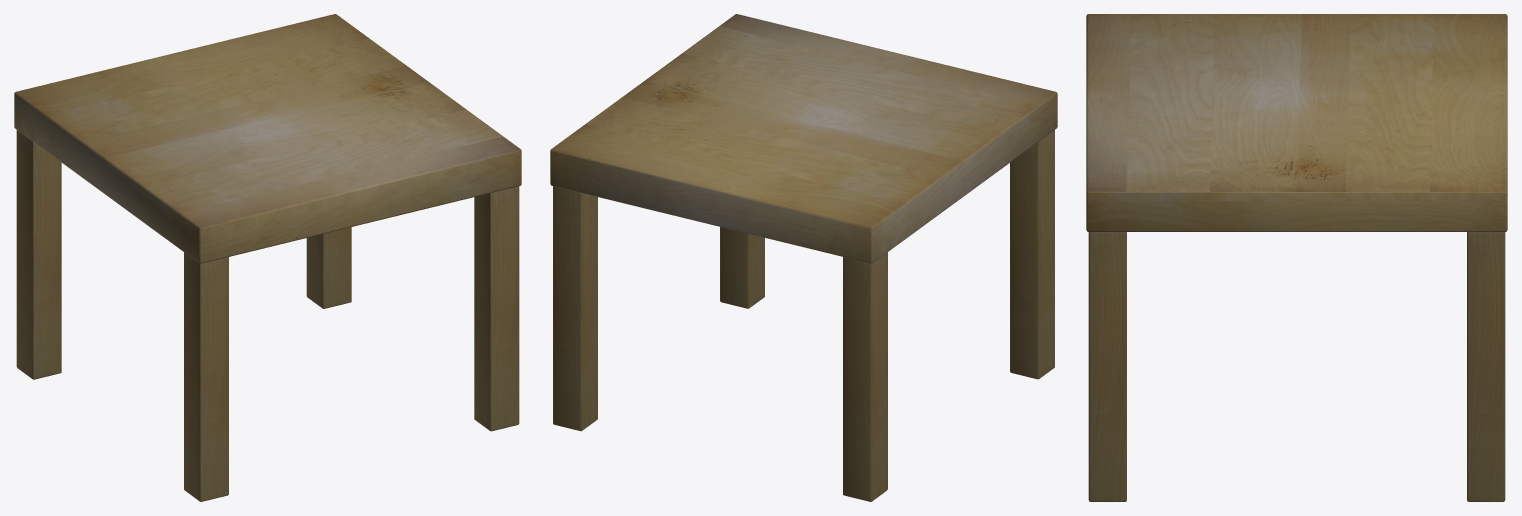
File: Side_Table.fbx
3 renders of one model, left to right at view 1: azimuth 30°, elevation 25°; view 2: azimuth 150°, elevation 25°; view 3: azimuth 270°, elevation 25°, orthographic. The views are drawn at different scales.
Visible parts, largest first — view 1: Top, Legs; view 2: Top, Legs; view 3: Top, Legs.
Part boxes in pixels (x1,y1,x2,y2): Top: (14,14,521,263); Legs: (16,130,519,501); Top: (550,14,1057,263); Legs: (553,130,1054,501); Top: (1086,14,1507,231); Legs: (1088,232,1505,501).
Bounding box in the file's own units: 0.55 × 0.45 × 0.55.
